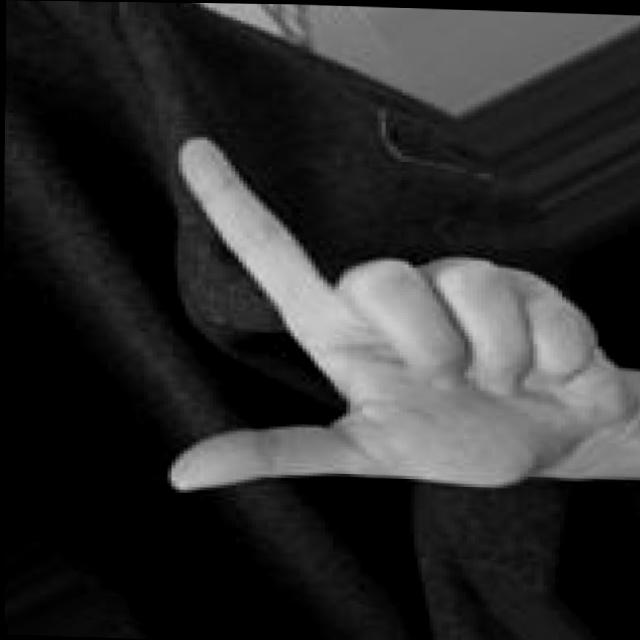L: (143, 114, 640, 549)
